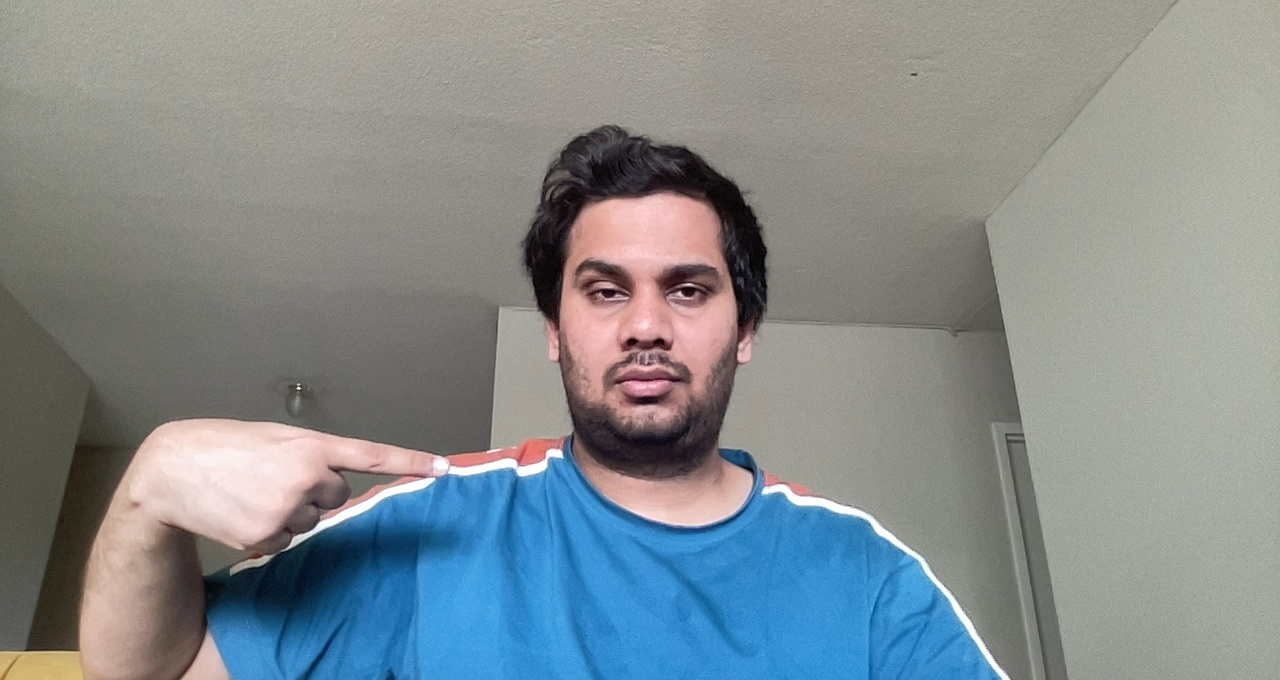fingerleft: (148, 411, 456, 561)
